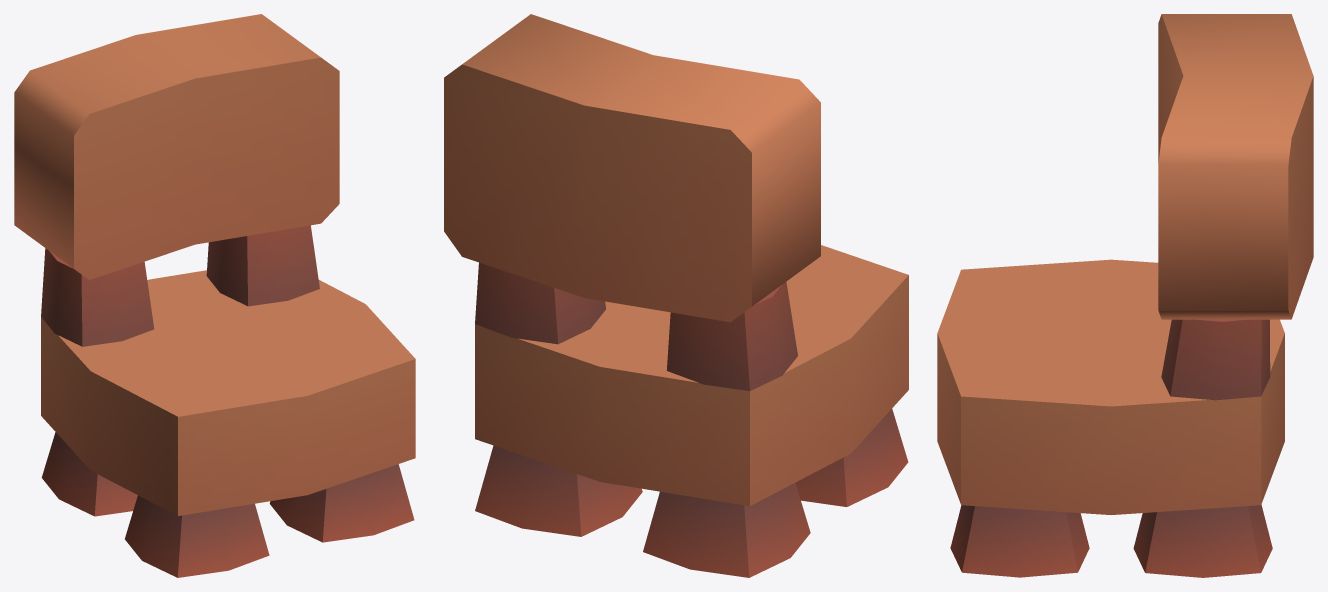
3 renders of one model, left to right at view 1: azimuth 30°, elevation 25°; view 2: azimuth 150°, elevation 25°; view 3: azimuth 270°, elevation 25°, orthographic. The views are drawn at different scales.
Parts seen in each view (by area): view 1: chair; view 2: chair; view 3: chair.
Boxes of the visible parts, box(x1,y1,x2,y2) form: chair: box(14, 14, 415, 577); chair: box(444, 14, 908, 577); chair: box(937, 14, 1313, 577).
Size of the model in its own units: 0.3465 by 0.4773 by 0.3751.
1 material, 1 textured.
